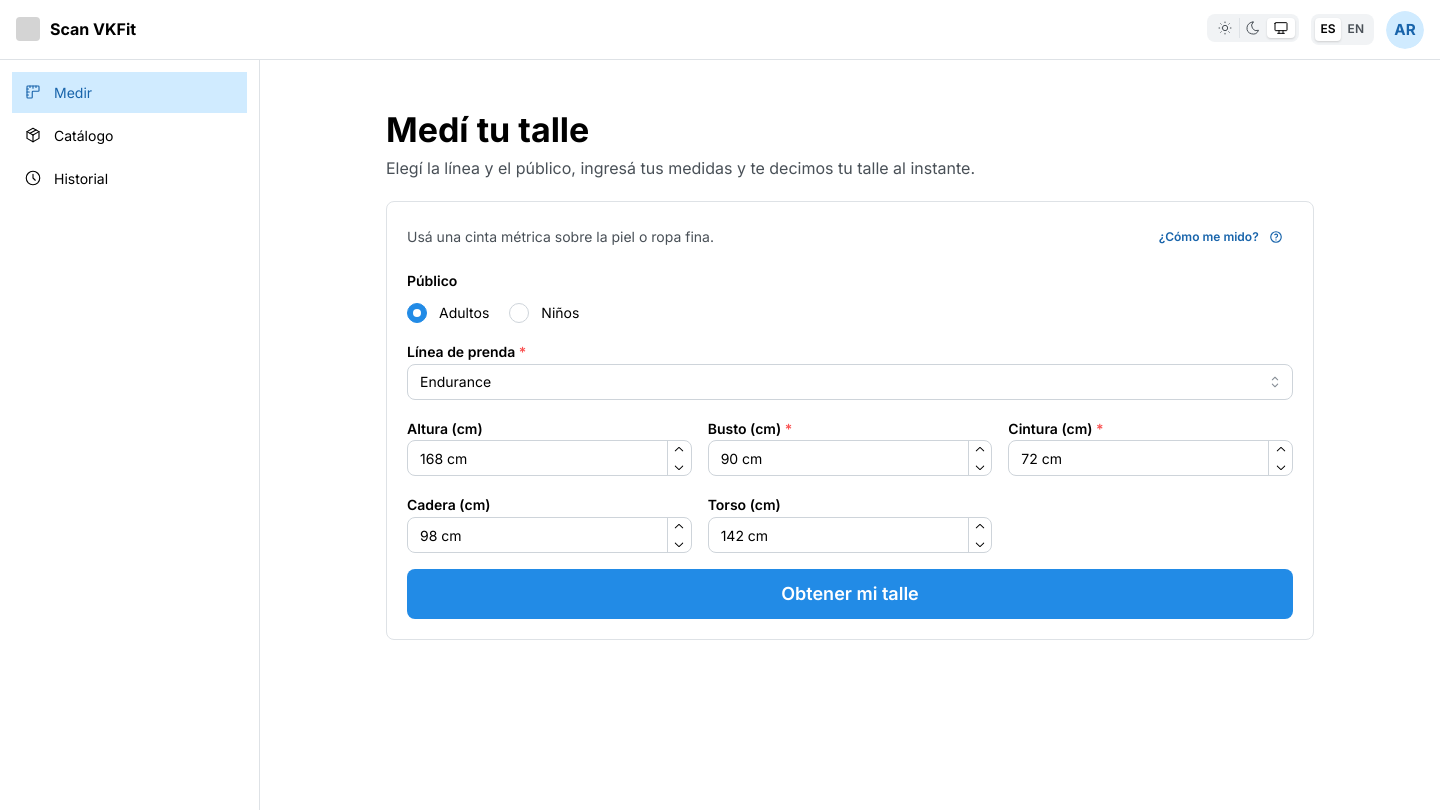
perfiles de medidas › separa el historial de mediciones por perfil
// Con el perfil predeterminado (Training) se genera una medición nueva.
Click the button "Obtener mi talle": (850, 594) [407,569,1293,619]
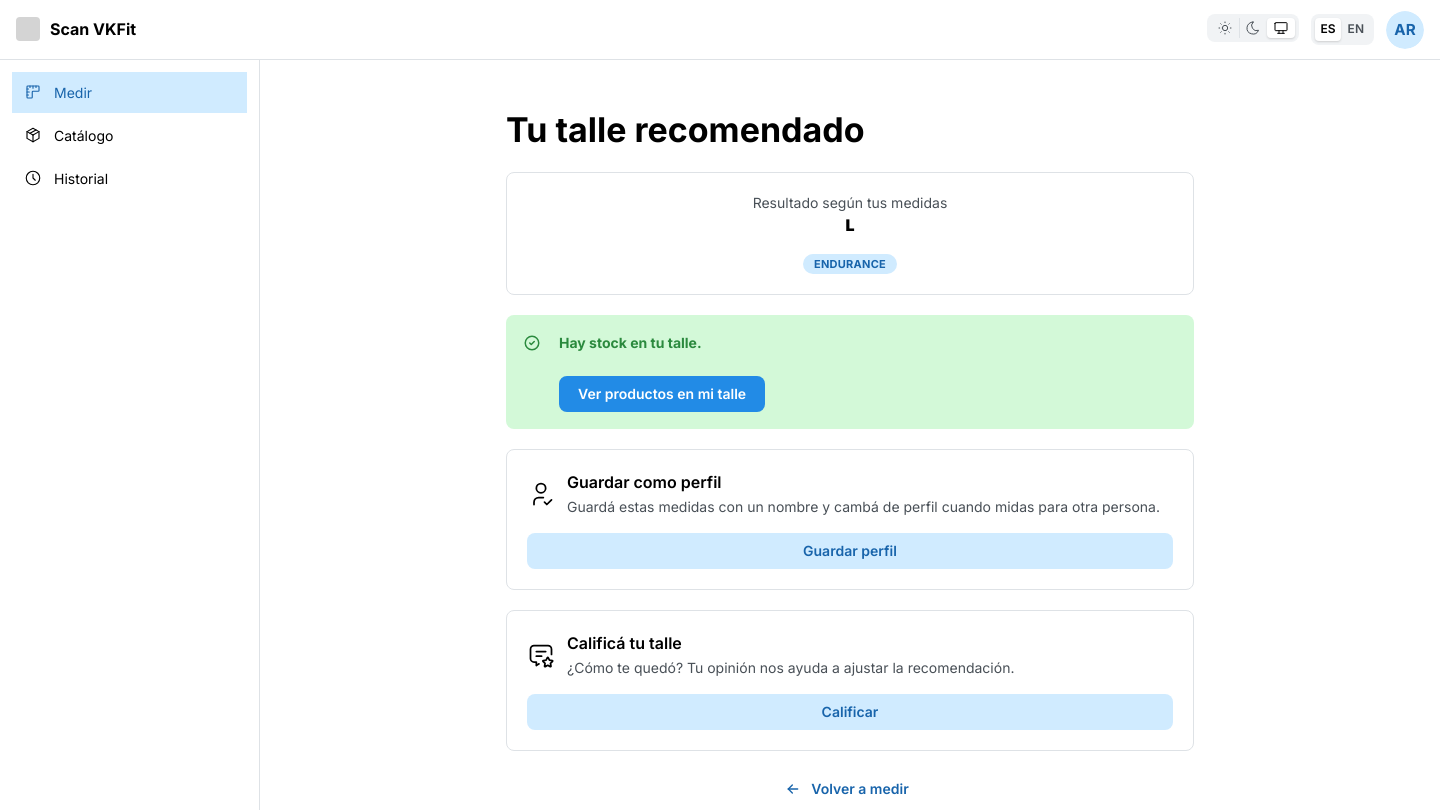
Result: the heading "Tu talle recomendado" is shown at [506,109,864,150]
